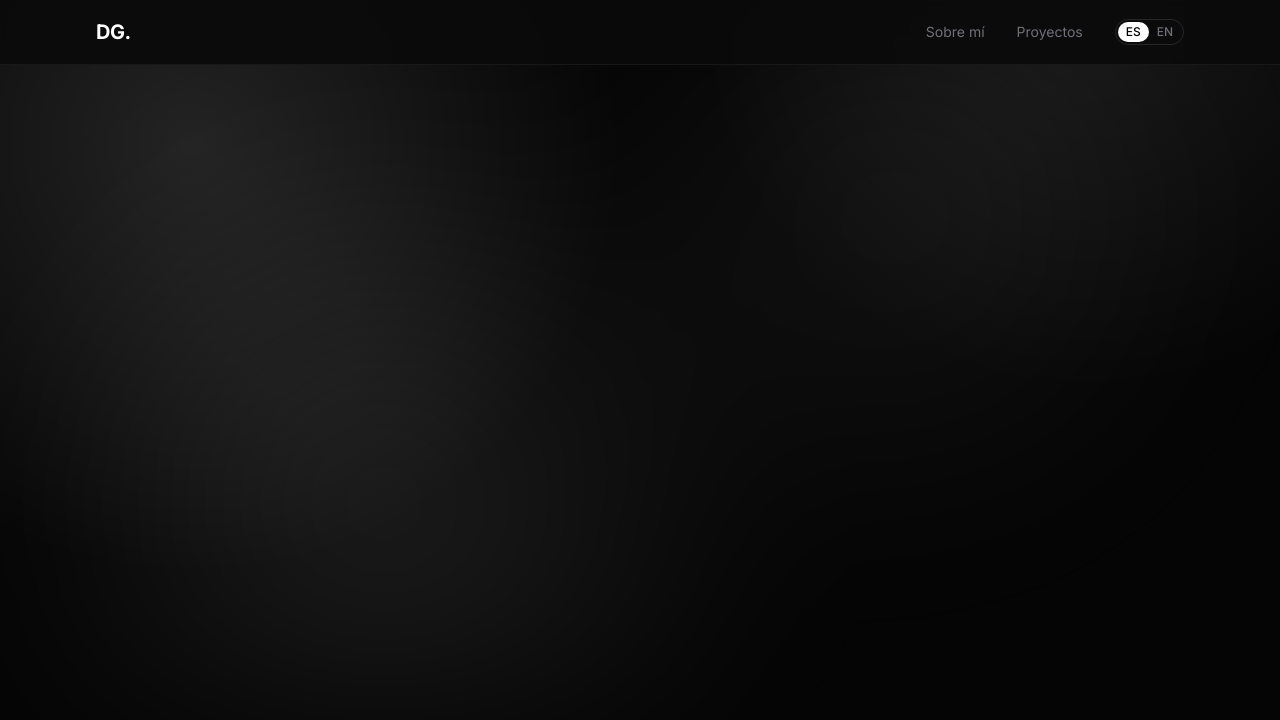
idioma › el botón ES/EN cambia los textos, el idioma del documento y lo recuerda
Expected: the link "Proyectos" is shown, [1017,22,1083,42]
Click the button with aria-label "Cambiar idioma a inglés" at (1149, 32), box [1115,19,1184,45]
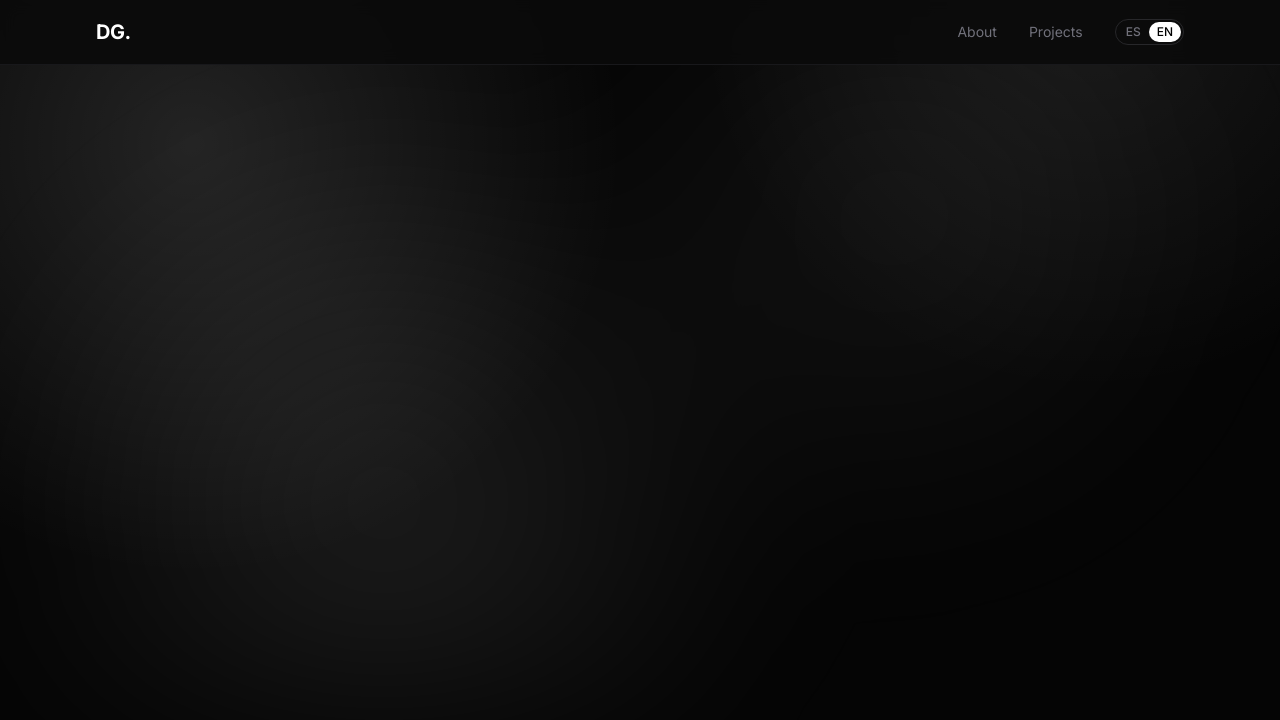
Expected: the link "Projects" is shown, [1029,22,1083,42]
Result: the link "Proyectos" is gone
